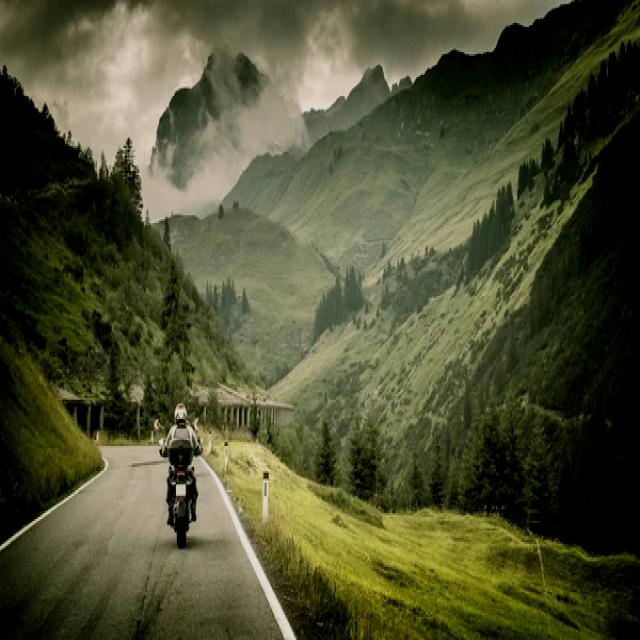MOTORCYCLE: (162, 439, 196, 559)
